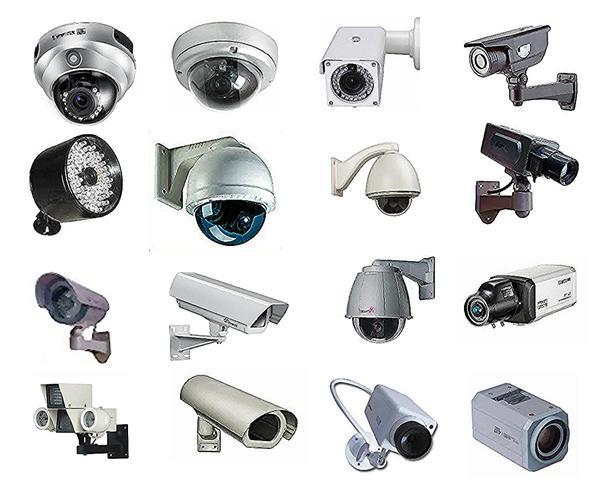maru: (150, 127, 286, 253), (312, 129, 436, 234), (326, 253, 451, 352), (162, 16, 280, 113)
tutu: (458, 120, 595, 233), (11, 126, 136, 249), (455, 13, 594, 117), (158, 369, 299, 470), (312, 374, 444, 480), (300, 12, 430, 118), (155, 267, 292, 367), (466, 369, 592, 473), (18, 266, 131, 376), (458, 251, 590, 344)
